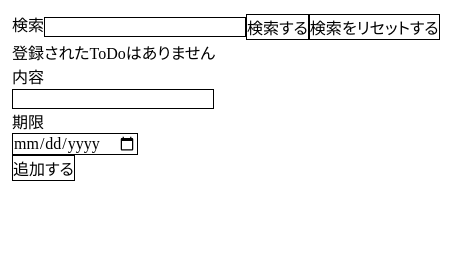
Test case: ToDoPage 検索機能 › 検索で特定のToDoのみが表示される
Step 1. Type "牛乳を買う" into the field labelled "内容" → (113, 99), box [12,89,214,109]
Step 2. Type "2025-12-31" into the date field labelled "期限" → (75, 144), box [12,133,138,155]
Step 3. Click the button "追加する" → (43, 168), box [12,155,75,181]
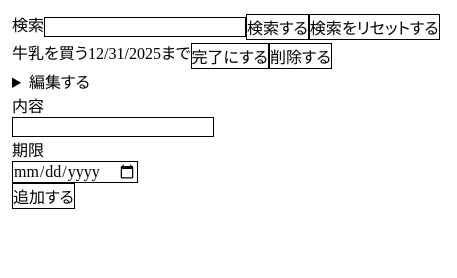
Step 4. Type "レポートを提出する" into the field labelled "内容" → (113, 127), box [12,117,214,137]
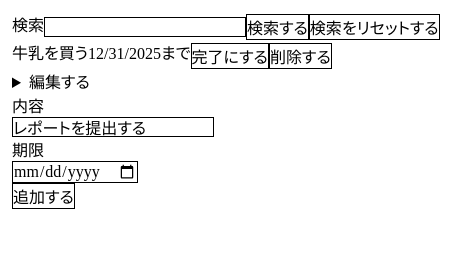
Step 5. Type "2025-12-30" into the date field labelled "期限" → (75, 172), box [12,161,138,183]
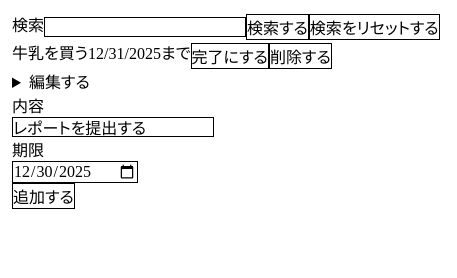
Step 6. Click the button "追加する" → (43, 196), box [12,183,75,209]
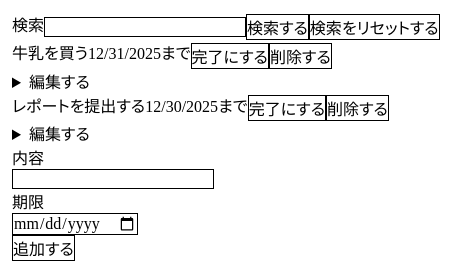
Step 7. Type "牛乳" into the field labelled "検索" → (145, 27), box [44,17,246,37]
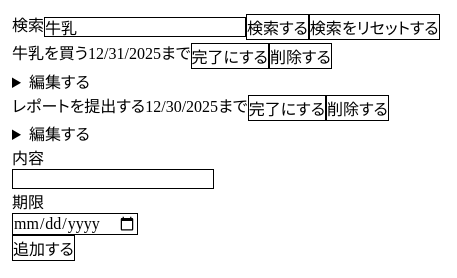
Step 8. Click the button "検索する" → (277, 27), box [246,14,309,40]
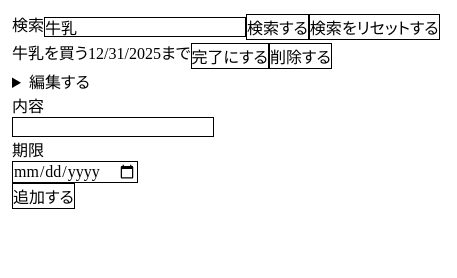
Result: the text "牛乳を買う" is shown at [12,45,88,62]
Result: the text "レポートを提出する" is gone
